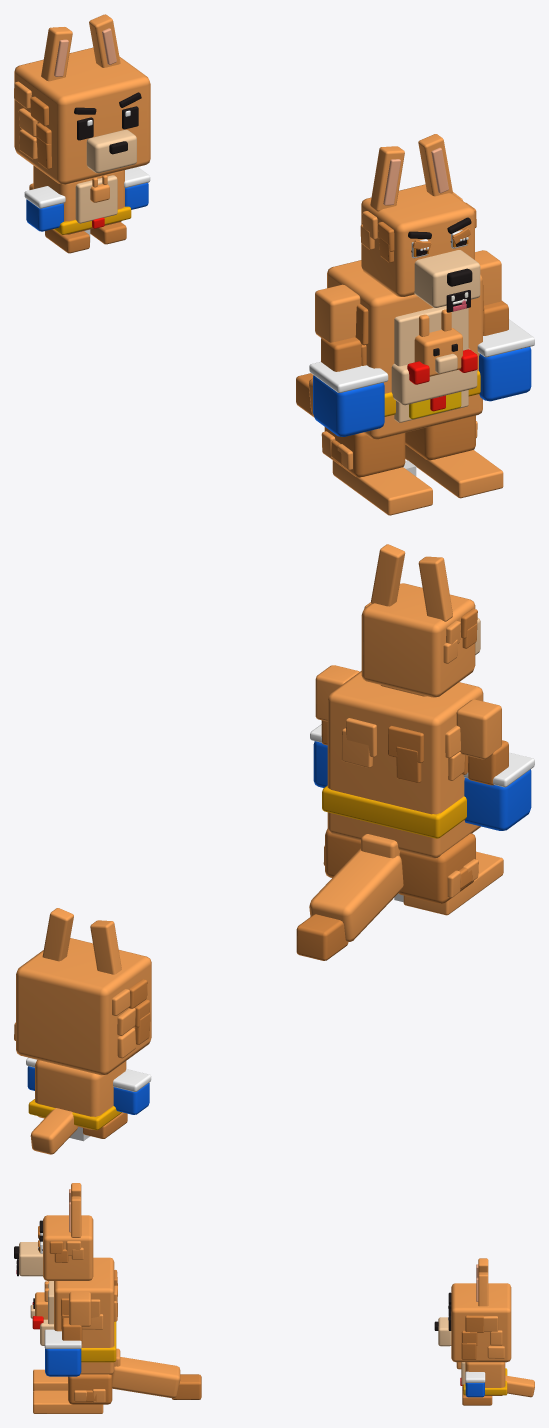
File: Restyle_B04.fbx
3 renders of one model, top to bottom at view 1: azimuth 30°, elevation 25°; view 2: azimuth 150°, elevation 25°; view 3: azimuth 270°, elevation 25°, orthographic. The views are drawn at different scales.
Parts seen in each view (by area): view 1: P04__Head, B04__Head, B04__Body, B04__Body_Light, B04__RightLeg_Fur, B04__RightHand, B04__LeftLeg_Fur, B04__Head_Light, B04__RightLeg, B04__LeftHand, B04__RightUpperArm, B04__LeftLeg (+21 smaller); view 2: B04__Body, P04__Head, B04__Head, B04__Tail, P04__Body, B04__Body_Belt, B04__RightLeg, B04__RightHand, B04__RightUpperArm, B04__RightLeg_Fur, B04__Tail_FurDark, B04__Body_FurDark (+8 smaller); view 3: P04__Head, B04__Body, B04__Head, B04__Tail, B04__LeftLeg_Fur, P04__Body, B04__LeftLeg, B04__LeftHand, P04__Head_FurDark, B04__Head_Light, B04__LeftUpperArm, B04__Body_Belt (+9 smaller).
Boxes of the visible parts, box(x1,y1,x2,y2) form: P04__Head: box(14, 14, 150, 184); B04__Head: box(360, 134, 474, 296); B04__Body: box(327, 260, 482, 439); B04__Body_Light: box(391, 305, 477, 422); B04__RightLeg_Fur: box(321, 431, 432, 515); B04__RightHand: box(313, 375, 384, 436); B04__LeftLeg_Fur: box(405, 421, 503, 498); B04__Head_Light: box(414, 250, 480, 307); B04__RightLeg: box(324, 427, 405, 477); B04__LeftHand: box(479, 347, 531, 401); B04__RightUpperArm: box(315, 284, 360, 342); B04__LeftLeg: box(405, 415, 475, 460); B04__Body: box(327, 671, 483, 858); P04__Head: box(14, 908, 151, 1075); B04__Head: box(361, 544, 475, 697); B04__Tail: box(309, 834, 403, 942); P04__Body: box(30, 1060, 126, 1154); B04__Body_Belt: box(322, 785, 466, 838); B04__RightLeg: box(398, 833, 475, 903); B04__RightHand: box(464, 769, 531, 830); B04__RightUpperArm: box(456, 699, 501, 759); B04__RightLeg_Fur: box(403, 851, 503, 915); B04__Tail_FurDark: box(296, 914, 348, 960); B04__Body_FurDark: box(388, 726, 468, 783); P04__Head: box(451, 1258, 511, 1362); B04__Body: box(35, 1257, 117, 1374); B04__Head: box(43, 1183, 93, 1280); B04__Tail: box(112, 1348, 180, 1398); B04__LeftLeg_Fur: box(33, 1389, 105, 1413); P04__Body: box(456, 1362, 534, 1397); B04__LeftLeg: box(68, 1374, 112, 1404); B04__LeftHand: box(45, 1348, 81, 1376); P04__Head_FurDark: box(461, 1315, 483, 1359); B04__Head_Light: box(19, 1242, 42, 1276); B04__LeftUpperArm: box(69, 1292, 91, 1326); B04__Body_Belt: box(81, 1321, 116, 1362).
Size of the model in its own units: 1400 by 2316 by 5195.
